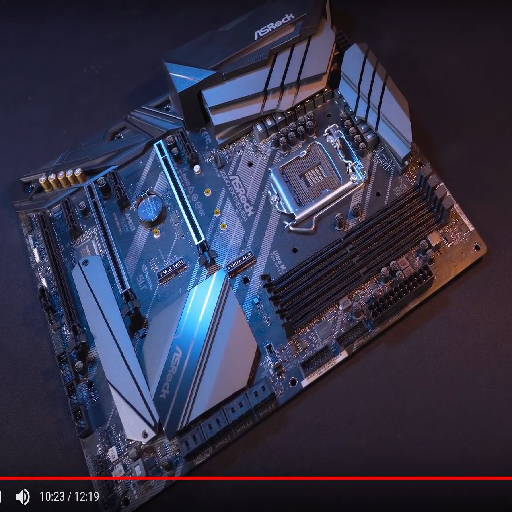CPU: (267, 120, 371, 227)
GPU: (83, 179, 147, 325), (152, 138, 220, 270)
MOTHERBOARD: (12, 9, 489, 510)
RAM: (257, 160, 454, 341)
SSD: (224, 250, 257, 277), (156, 258, 188, 283)
